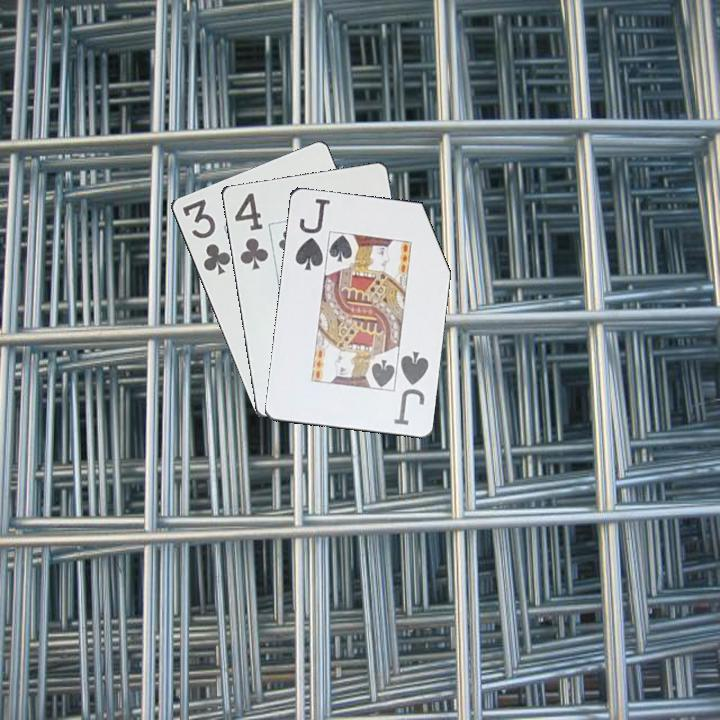3c: (178, 195, 233, 278)
4c: (230, 189, 271, 272)
Js: (390, 347, 431, 428), (291, 194, 332, 273)
